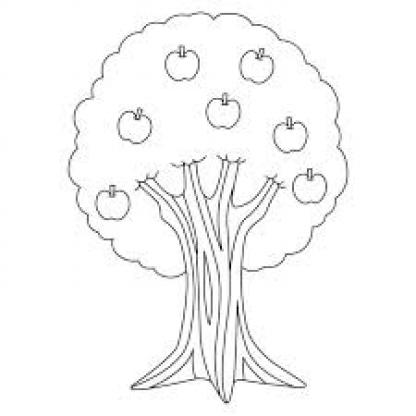apple: (204, 91, 243, 131), (162, 45, 201, 83), (272, 116, 309, 154), (239, 46, 275, 85), (118, 106, 153, 144), (293, 168, 327, 206), (96, 183, 130, 221)
branch_cut: (138, 160, 282, 256)
crown_cloud: (69, 14, 349, 278)
root_only: (112, 355, 342, 413)
trunk_bark: (177, 277, 260, 353)
